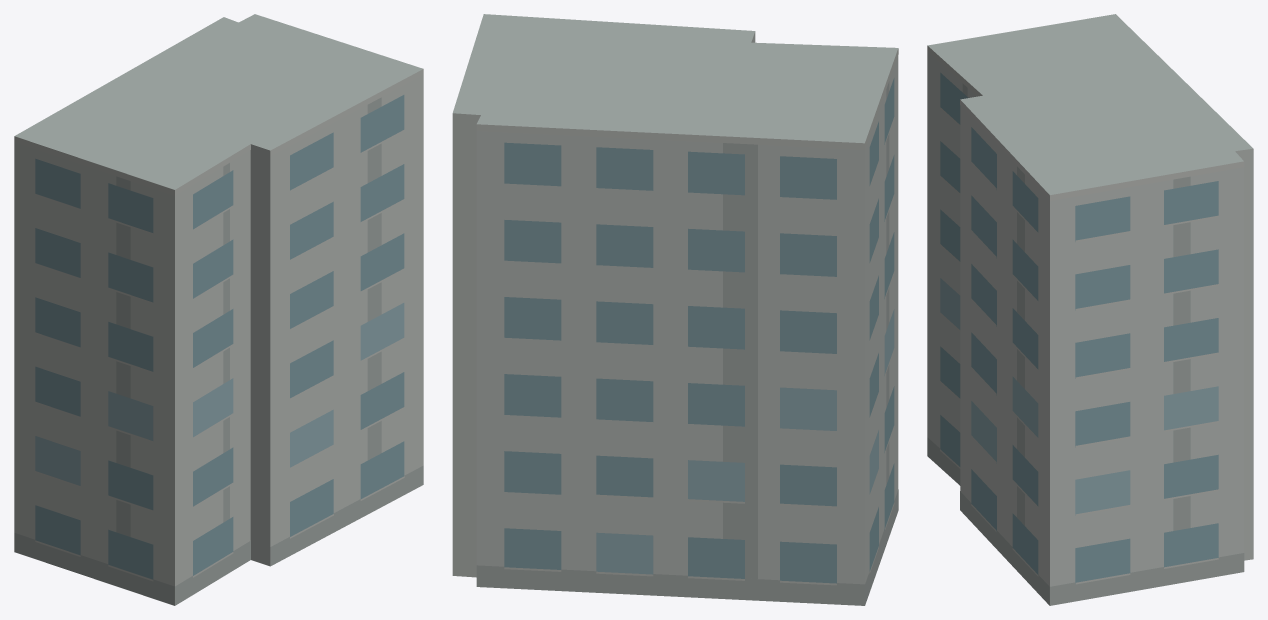
File: survey-upis-32848833.glb
3 views of the same model, side by side, from view 1: azimuth 30°, elevation 25°; view 2: azimuth 150°, elevation 25°; view 3: azimuth 270°, elevation 25° (orthographic). The views are drawn at different scales.
Visible parts, largest first — view 1: survey-upis-32848833.tmp; view 2: survey-upis-32848833.tmp; view 3: survey-upis-32848833.tmp.
Boxes of the visible parts, x1,y1,x2,y2 form: survey-upis-32848833.tmp: (14,14,423,605); survey-upis-32848833.tmp: (452,14,898,605); survey-upis-32848833.tmp: (927,14,1253,605).
Size of the model in its own units: 16 by 16.9 by 12.17.
